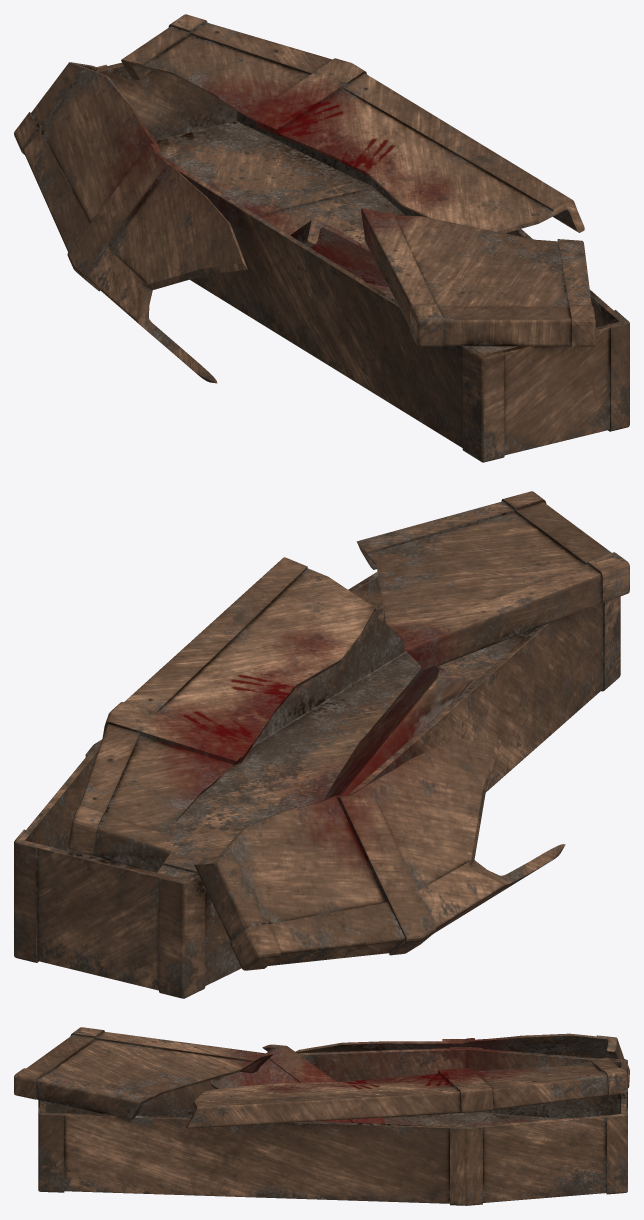
The model's file is coffin.glb.
3 views of the same model, one above another, from view 1: azimuth 30°, elevation 25°; view 2: azimuth 150°, elevation 25°; view 3: azimuth 270°, elevation 25° (orthographic). The views are drawn at different scales.
Parts seen in each view (by area): view 1: Coffin_low_Coffin_texture_0; view 2: Coffin_low_Coffin_texture_0; view 3: Coffin_low_Coffin_texture_0.
Part boxes in pixels (x1,y1,x2,y2): Coffin_low_Coffin_texture_0: (14,14,629,462); Coffin_low_Coffin_texture_0: (14,491,629,998); Coffin_low_Coffin_texture_0: (14,1027,629,1205).
Size of the model in its own units: 0.9 by 0.42 by 2.
Materials: 1 (1 with a texture image).
